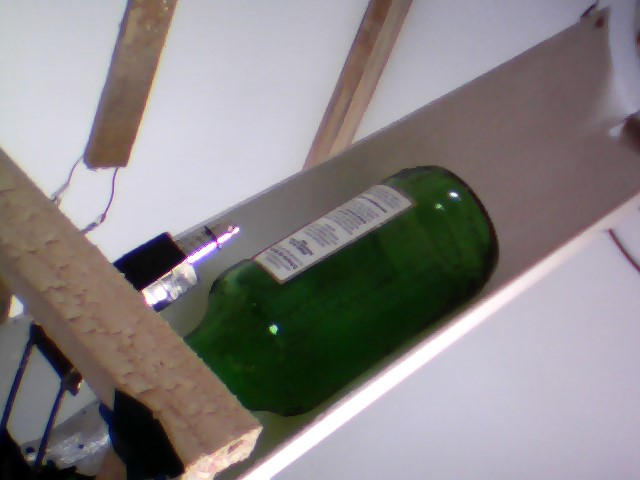vidrio: (164, 155, 508, 419)
